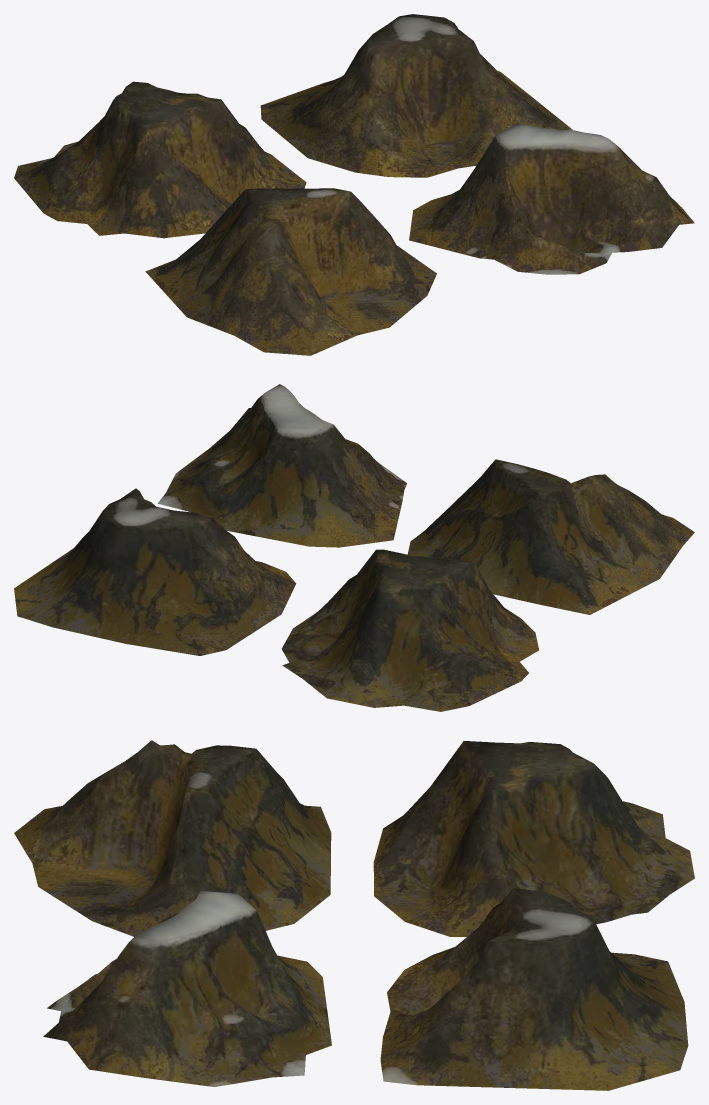
The picture shows the model from 3 angles, top to bottom: view 1: azimuth 30°, elevation 25°; view 2: azimuth 150°, elevation 25°; view 3: azimuth 270°, elevation 25°; orthographic projection. The views are drawn at different scales.
Visible parts, largest first — view 1: mountain2, mountain3, mountain1, mountain4; view 2: mountain4, mountain3, mountain2, mountain1; view 3: mountain3, mountain2, mountain4, mountain1.
Boxes of the visible parts, x1,y1,x2,y2 form: mountain2: [145, 188, 436, 355]; mountain3: [260, 14, 572, 177]; mountain1: [409, 123, 694, 274]; mountain4: [14, 81, 306, 238]; mountain4: [281, 549, 538, 711]; mountain3: [14, 488, 296, 655]; mountain2: [407, 459, 694, 614]; mountain1: [157, 384, 406, 547]; mountain3: [380, 888, 688, 1090]; mountain2: [14, 740, 331, 936]; mountain4: [373, 741, 694, 936]; mountain1: [43, 891, 331, 1086].
Size of the model in its own units: 22199 by 3749 by 21940.
1 material, 1 textured.
